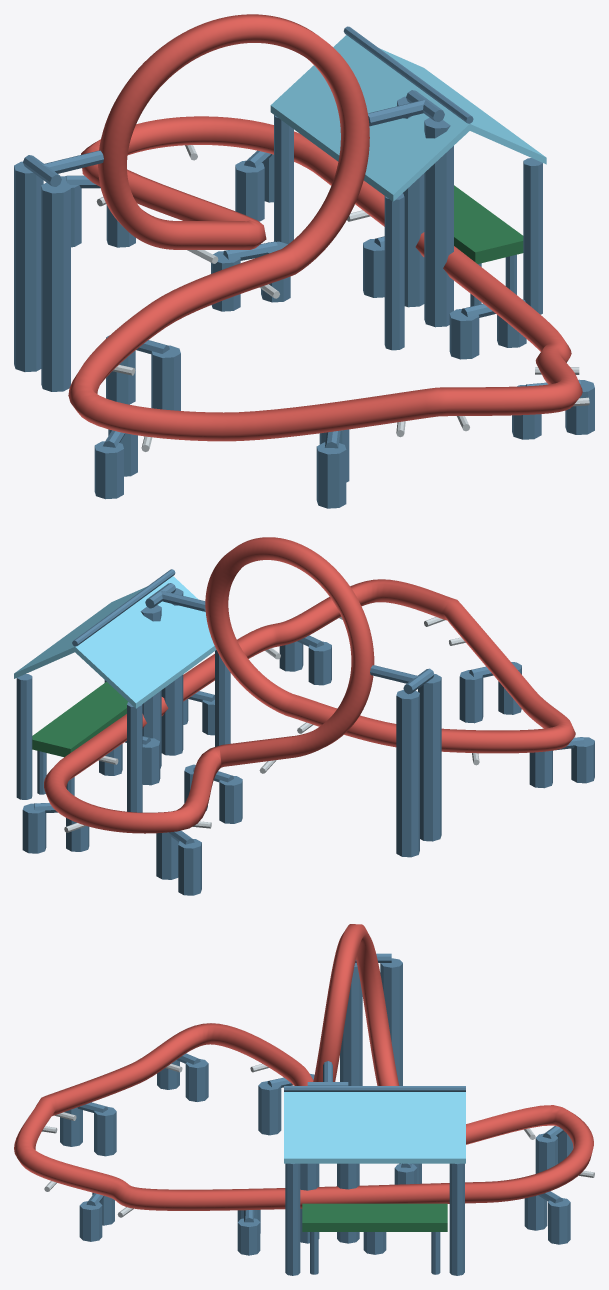
The model's file is roller-coaster-4x6-7f.glb.
3 views of the same model, one above another, from view 1: azimuth 30°, elevation 25°; view 2: azimuth 150°, elevation 25°; view 3: azimuth 270°, elevation 25° (orthographic). The views are drawn at different scales.
Parts seen in each view (by area): view 1: roller-coaster-4x6-7f; view 2: roller-coaster-4x6-7f; view 3: roller-coaster-4x6-7f.
Part boxes in pixels (bbox=[...]): roller-coaster-4x6-7f: bbox=[14, 14, 594, 508]; roller-coaster-4x6-7f: bbox=[14, 537, 594, 895]; roller-coaster-4x6-7f: bbox=[14, 924, 594, 1275].
Size of the model in its own units: 3.59 by 2.16 by 4.59.
